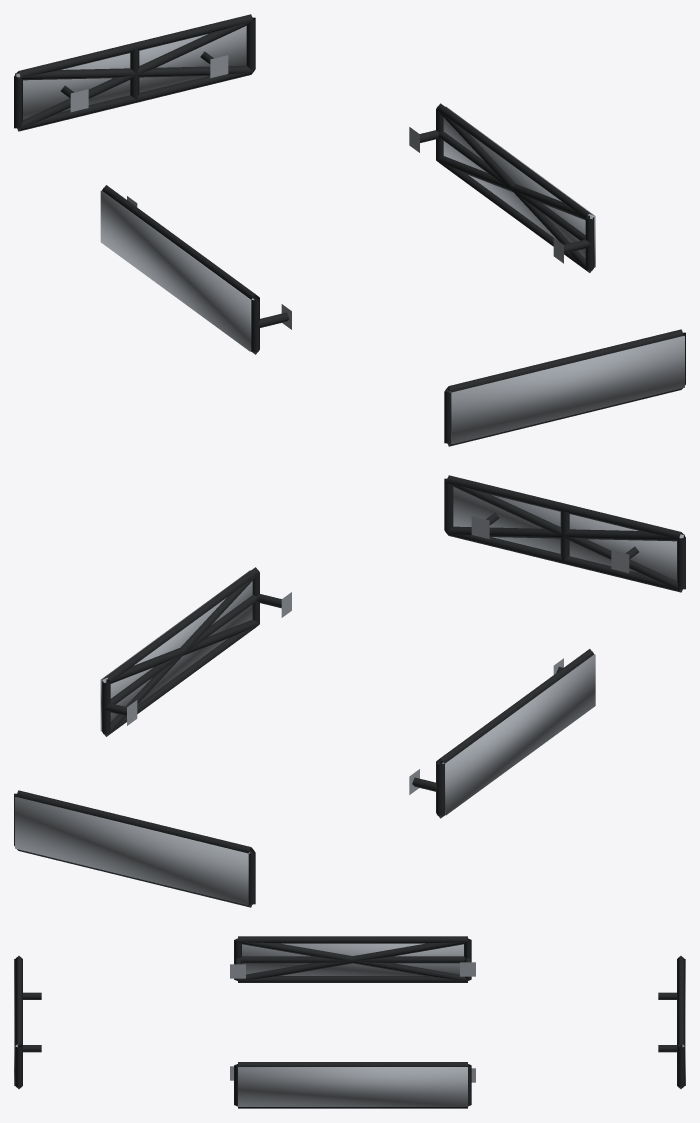
The model's file is sanga_fulcro_protecao.glb.
3 renders of one model, top to bottom at view 1: azimuth 30°, elevation 25°; view 2: azimuth 150°, elevation 25°; view 3: azimuth 270°, elevation 25°, orthographic. The views are drawn at different scales.
Parts seen in each view (by area): view 1: Protection_front_Level3_Details, Protection_left_Level3_Details, Protection_rear_Level1_Details, Protection_rear_Level3_Details, Protection_right_Level1_Details, Protection_rear_Level2_Details, Protection_right_Level2_Details, Protection_right_Level3_Details, Protection_front_Level1_Details, Protection_left_Level1_Details; view 2: Protection_rear_Level3_Details, Protection_left_Level3_Details, Protection_front_Level1_Details, Protection_front_Level3_Details, Protection_right_Level1_Details, Protection_front_Level2_Details, Protection_right_Level2_Details, Protection_right_Level3_Details, Protection_rear_Level1_Details, Protection_left_Level1_Details; view 3: Protection_right_Level3_Details, Protection_left_Level2_Details, Protection_left_Level1_Details, Protection_left_Level3_Details, Protection_right_Level1_Details, Protection_rear_Level1_Details, Protection_front_Level1_Details.
Part boxes in pixels (<box>): Protection_front_Level3_Details: <box>449,336,684,444</box>; Protection_left_Level3_Details: <box>100,190,254,351</box>; Protection_rear_Level1_Details: <box>14,14,255,131</box>; Protection_rear_Level3_Details: <box>15,26,246,119</box>; Protection_right_Level1_Details: <box>409,103,594,272</box>; Protection_rear_Level2_Details: <box>16,21,253,130</box>; Protection_right_Level2_Details: <box>436,110,593,272</box>; Protection_right_Level3_Details: <box>443,106,595,267</box>; Protection_front_Level1_Details: <box>444,329,685,446</box>; Protection_left_Level1_Details: <box>102,185,291,354</box>; Protection_rear_Level3_Details: <box>15,797,250,905</box>; Protection_left_Level3_Details: <box>442,654,595,815</box>; Protection_front_Level1_Details: <box>444,475,685,592</box>; Protection_front_Level3_Details: <box>453,487,684,580</box>; Protection_right_Level1_Details: <box>102,567,291,736</box>; Protection_front_Level2_Details: <box>446,482,683,591</box>; Protection_right_Level2_Details: <box>102,574,259,736</box>; Protection_right_Level3_Details: <box>100,570,252,731</box>; Protection_rear_Level1_Details: <box>14,790,255,907</box>; Protection_left_Level1_Details: <box>409,649,593,818</box>; Protection_right_Level3_Details: <box>238,1067,467,1106</box>; Protection_left_Level2_Details: <box>237,939,468,980</box>; Protection_left_Level1_Details: <box>230,936,475,982</box>; Protection_left_Level3_Details: <box>242,943,463,975</box>; Protection_right_Level1_Details: <box>230,1062,475,1108</box>; Protection_rear_Level1_Details: <box>658,956,684,1088</box>; Protection_front_Level1_Details: <box>15,956,41,1088</box>.
Size of the model in its own units: 2.11 by 0.354 by 4.62.
1 material, 1 textured.
